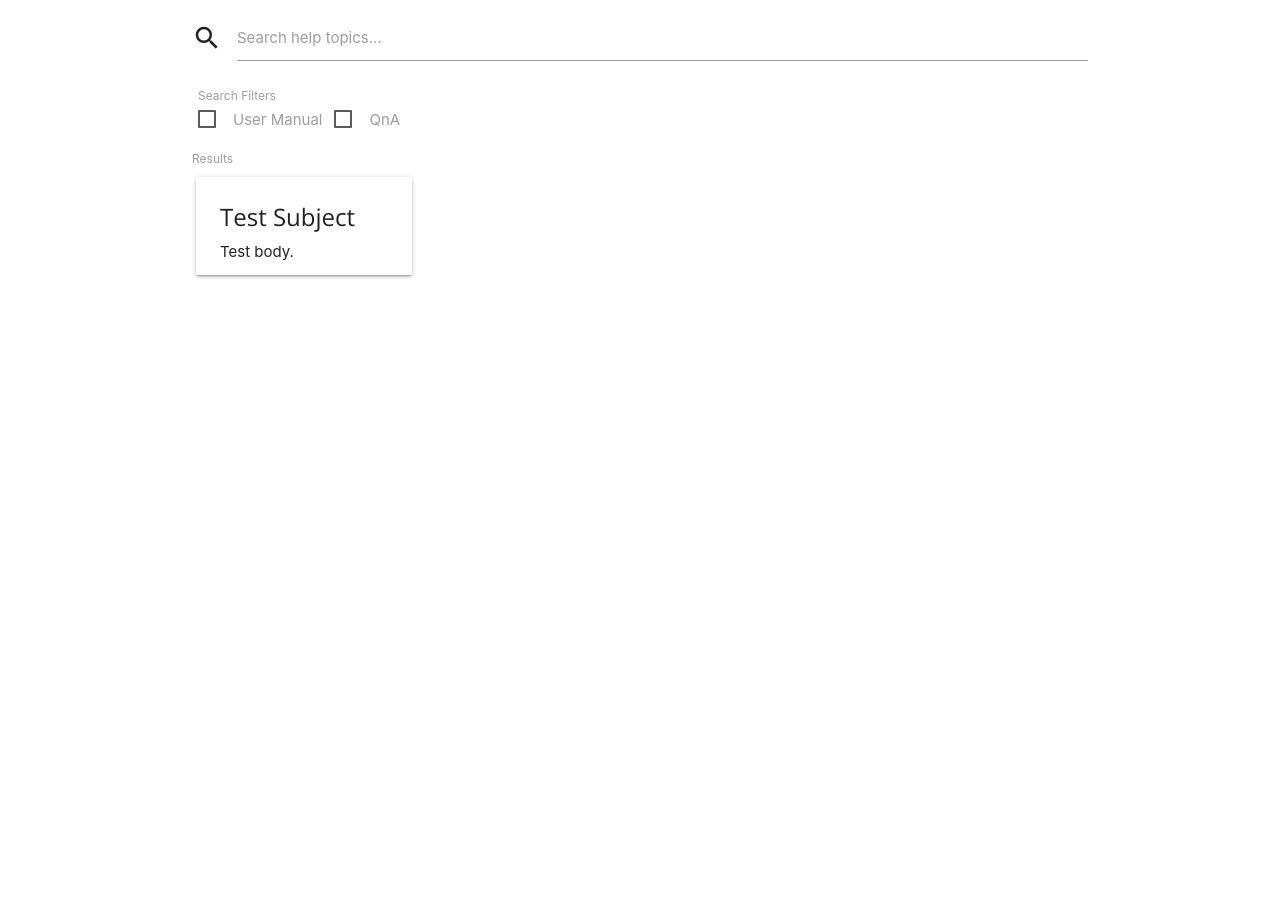
it: Search page default cards
The image size is (1280, 900).
Expected: the text with class "card-title" reads "Test Subject", [220,200,355,232]
Expected: the text "Test body." is shown, [220,242,294,260]
// Clicking on a card should open a modal with it's details
Click the element showing "Test Subject Test body." at (304, 226), box [196,176,412,275]
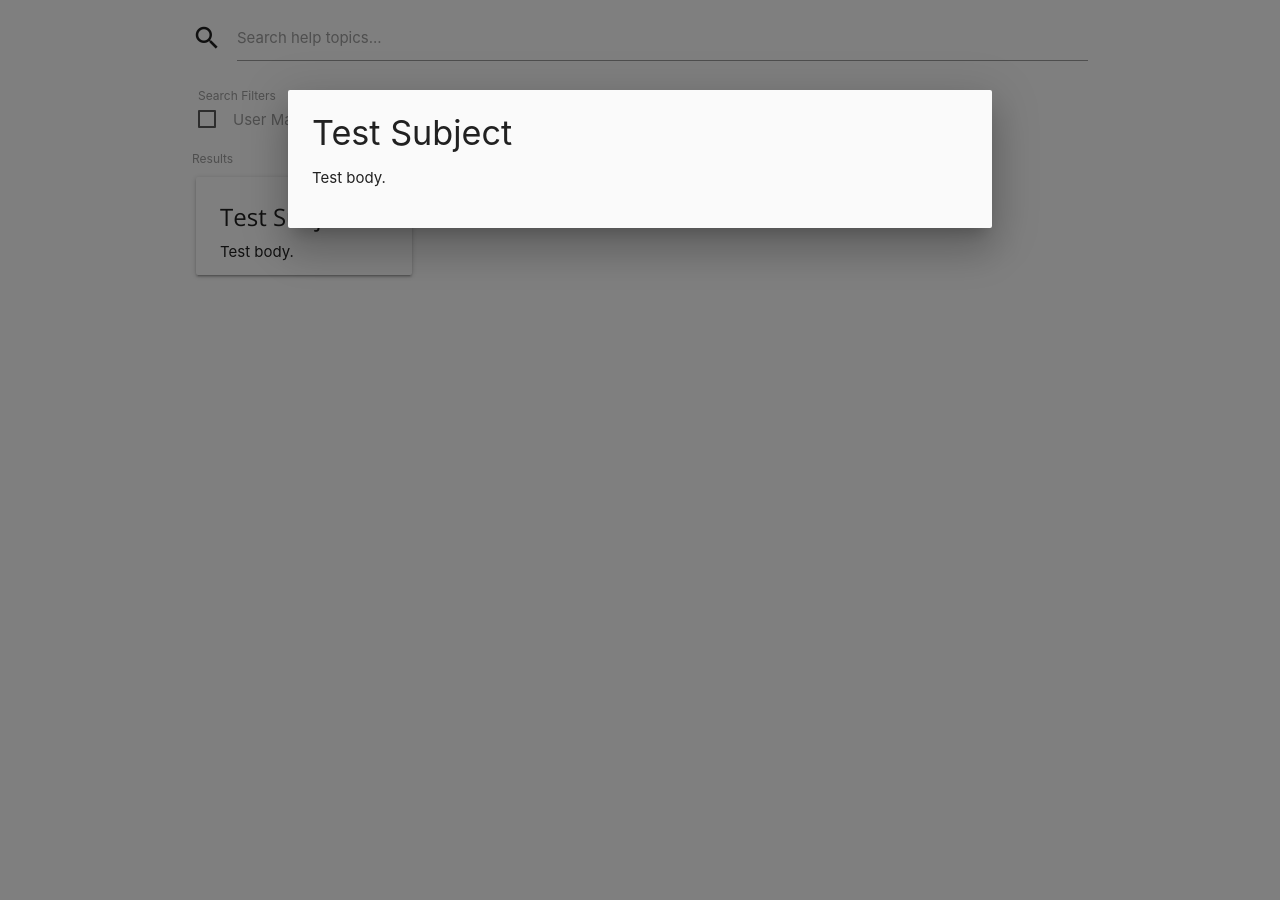
Expected: the element with class "open" is shown, [288,90,992,228]
Expected: the heading "Test Subject" is shown, [312,112,512,153]
Expected: the text "Test body." is shown, [312,168,386,187]
